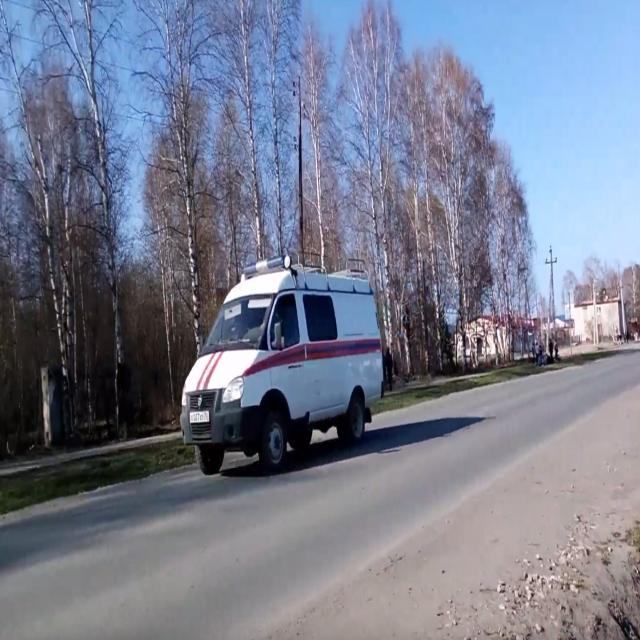ambulance: (181, 256, 386, 477)
